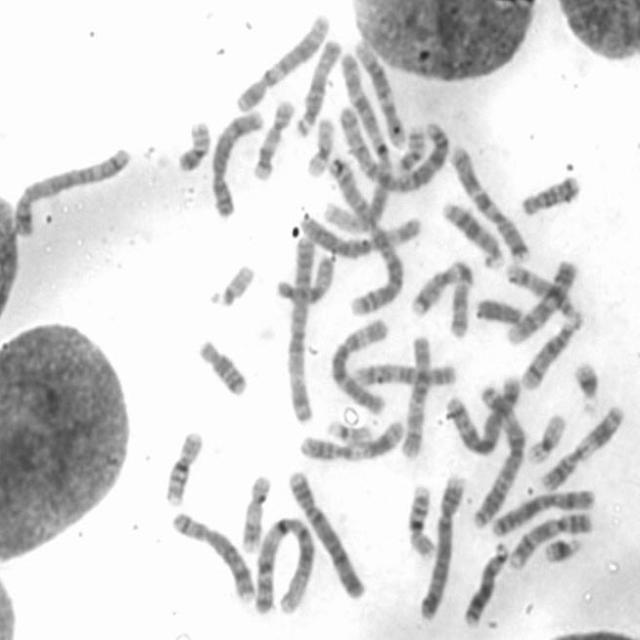A1: (323, 42, 395, 235), (250, 510, 318, 618)
A2: (323, 148, 406, 318), (336, 98, 451, 194)
A3: (467, 372, 525, 531), (282, 228, 319, 425)
B4: (283, 462, 368, 602), (414, 468, 468, 622)
B5: (10, 142, 134, 238), (443, 370, 523, 456)
C10: (398, 329, 434, 460), (349, 356, 461, 388)
C11: (536, 398, 628, 494), (295, 412, 409, 464)
C12: (231, 7, 332, 114), (350, 33, 408, 150)
C6: (294, 207, 424, 260), (325, 313, 391, 416)
C7: (444, 137, 534, 264), (407, 254, 476, 340)
C8: (166, 506, 258, 604), (206, 103, 268, 220)
C9: (502, 252, 581, 346), (506, 506, 595, 570)
D13: (439, 196, 507, 270), (459, 535, 512, 628)
D14: (517, 309, 585, 392), (502, 257, 582, 322)
D15: (292, 33, 344, 138), (270, 248, 337, 307)
E16: (160, 423, 207, 508), (402, 478, 440, 560)
E17: (250, 93, 296, 181), (237, 468, 274, 554)
E18: (193, 332, 250, 398), (516, 168, 584, 217)
F19: (522, 407, 568, 466), (302, 111, 336, 179)
F20: (172, 114, 214, 173), (394, 122, 428, 174)
G21: (569, 354, 603, 412), (539, 529, 585, 565)
G22: (204, 257, 258, 309), (322, 414, 377, 444)
X: (487, 483, 598, 538)
Y: (470, 291, 524, 327)
